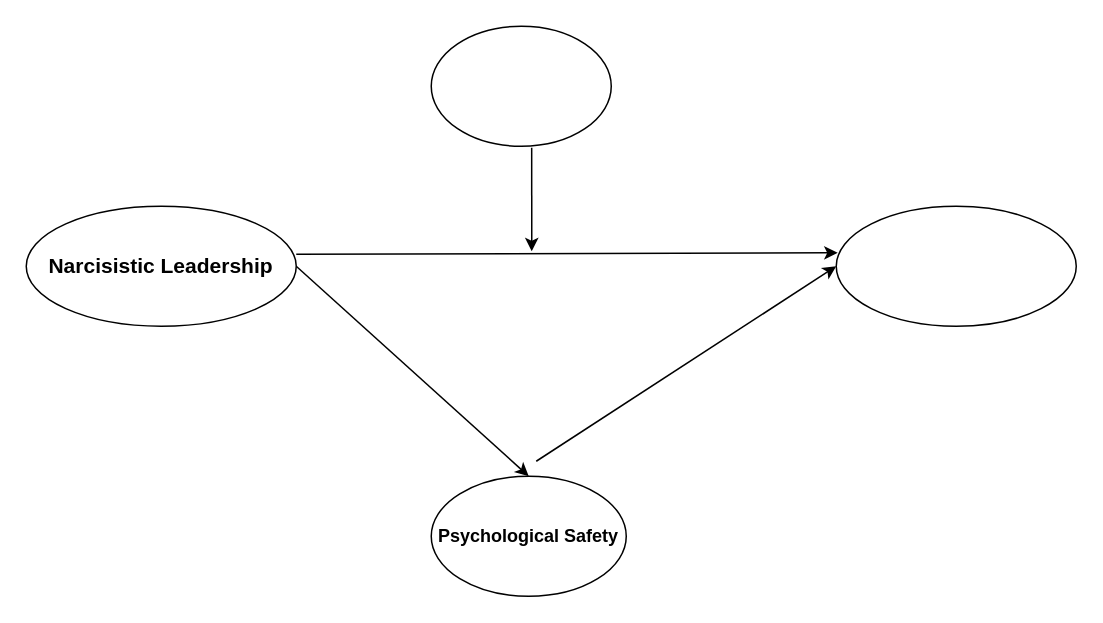
Image size: 1103x623. Some labels were removed from this diagram. The shapes that lost their labels are listed below. From the top down, each one's centre as x and y in pixels, then its label:
the point at 520,85: Emotional Inteligence
the point at 955,265: Employee Burnout
